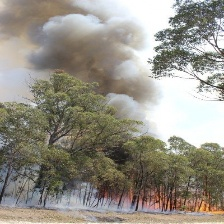fire: (189, 202, 223, 217)
smoke: (6, 1, 168, 136), (4, 163, 143, 218)
